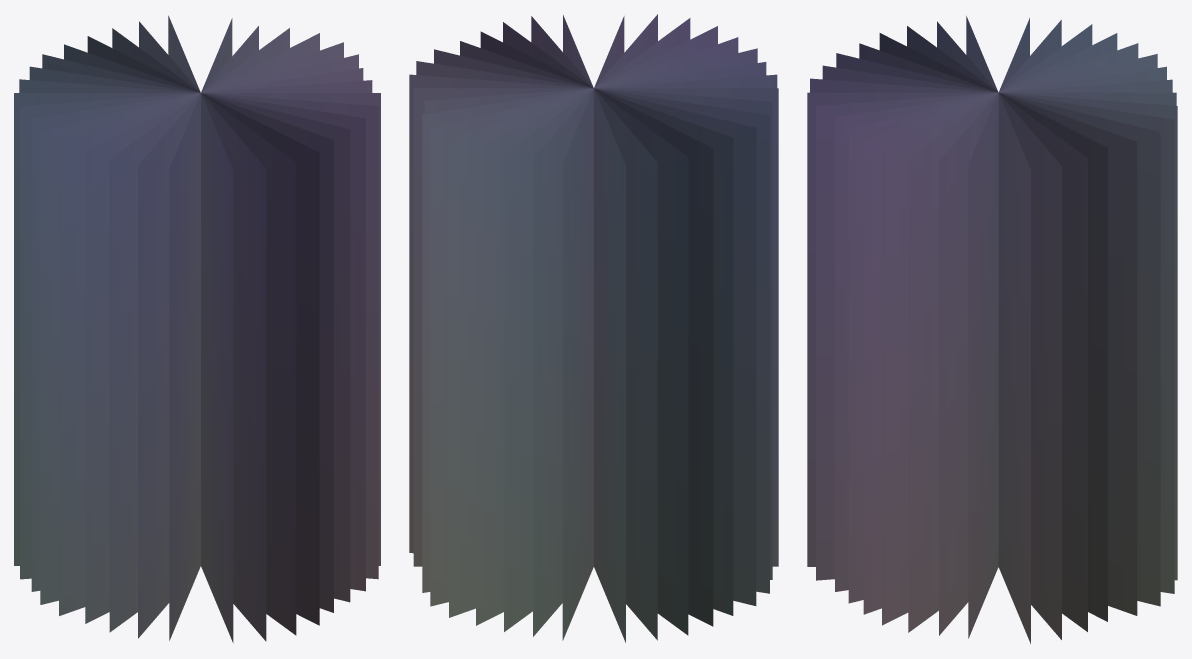
File: PineTree.fbx
3 views of the same model, side by side, from view 1: azimuth 30°, elevation 25°; view 2: azimuth 150°, elevation 25°; view 3: azimuth 270°, elevation 25° (orthographic).
Parts seen in each view (by area): view 1: Trank.001_Impostor_36; view 2: Trank.001_Impostor_36; view 3: Trank.001_Impostor_36.
Boxes of the visible parts, x1,y1,x2,y2 form: Trank.001_Impostor_36: (14,15,380,642); Trank.001_Impostor_36: (409,14,778,642); Trank.001_Impostor_36: (807,16,1177,643).
Bounding box in the file's own units: 218 × 308 × 218.
